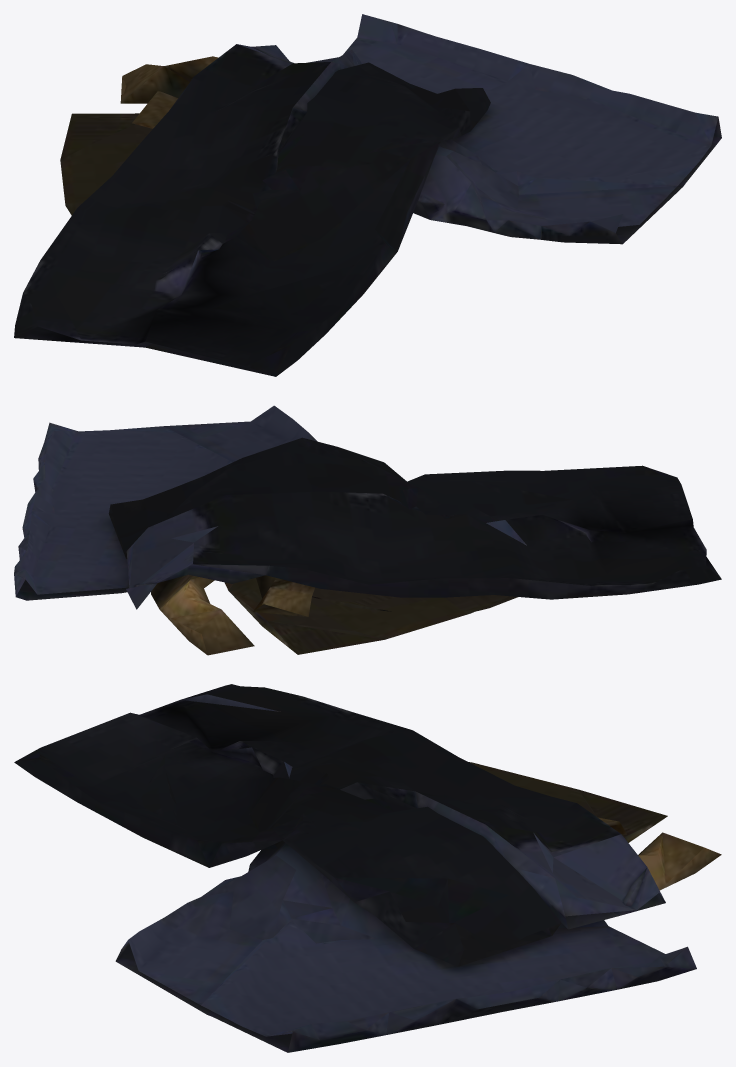
Rendered from pile3_0_lod1_web.glb.
The picture shows the model from 3 angles, top to bottom: view 1: azimuth 30°, elevation 25°; view 2: azimuth 150°, elevation 25°; view 3: azimuth 270°, elevation 25°; orthographic projection. The views are drawn at different scales.
Visible parts, largest first — view 1: pile3_0_trousers2_Cloth, pile3_0_skirt1_Cloth, pile3_0_sweater0_Cloth; view 2: pile3_0_trousers2_Cloth, pile3_0_skirt1_Cloth, pile3_0_sweater0_Cloth; view 3: pile3_0_trousers2_Cloth, pile3_0_skirt1_Cloth, pile3_0_sweater0_Cloth.
Part boxes in pixels (x1,y1,x2,y2): pile3_0_trousers2_Cloth: (14, 44, 490, 376); pile3_0_skirt1_Cloth: (343, 14, 721, 244); pile3_0_sweater0_Cloth: (60, 56, 218, 215); pile3_0_trousers2_Cloth: (108, 437, 721, 609); pile3_0_skirt1_Cloth: (14, 405, 317, 600); pile3_0_sweater0_Cloth: (151, 574, 517, 655); pile3_0_trousers2_Cloth: (14, 684, 665, 966); pile3_0_skirt1_Cloth: (115, 840, 696, 1052); pile3_0_sweater0_Cloth: (469, 762, 721, 890).
Bounding box in the file's own units: 1.25 × 0.1294 × 1.01.
Materials: 1 (1 with a texture image).
